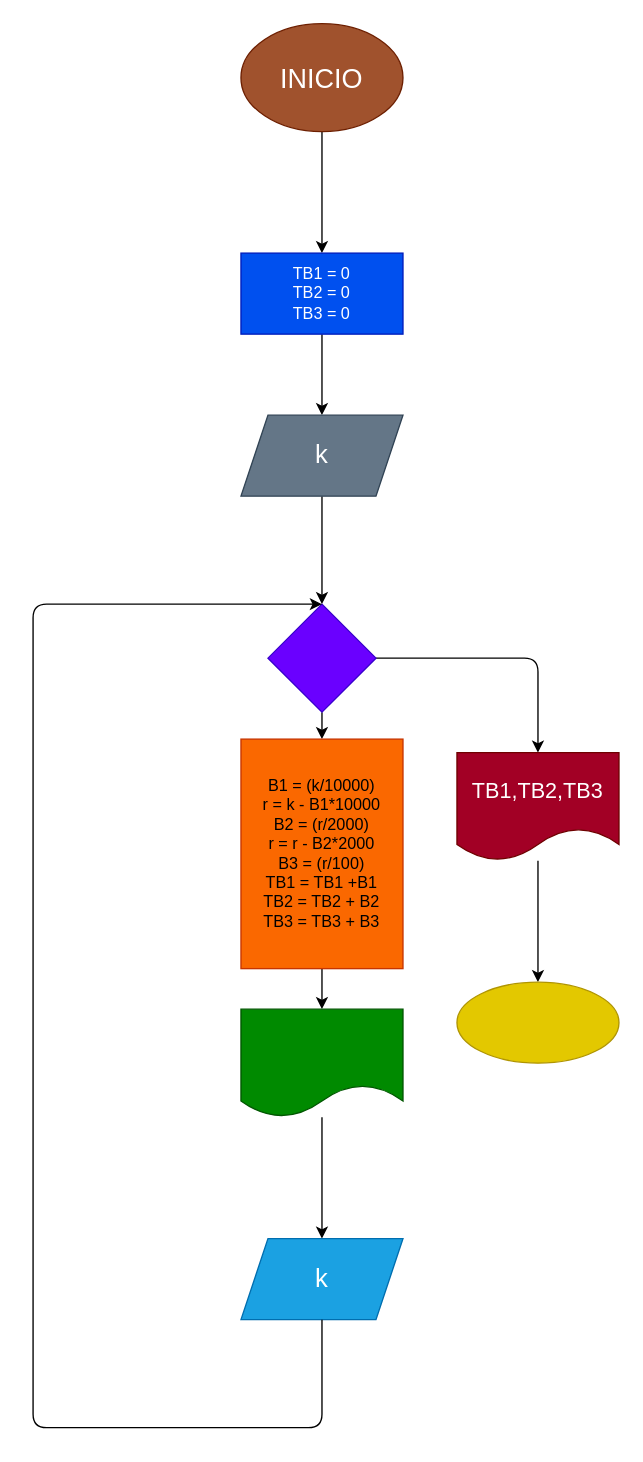
This 643x1462 diagram has some shape labels left out. Here are the shapes that lost their labels. From the top down, the box of each, then its label:
(267, 603, 376, 712): k != 0
(456, 981, 619, 1063): FIN
(240, 1008, 403, 1117): k, B1, B2, B3
